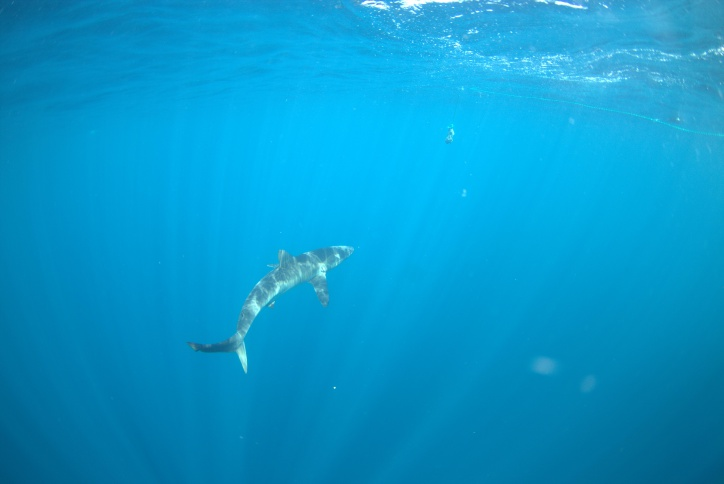Sedoso: (183, 231, 374, 381)
